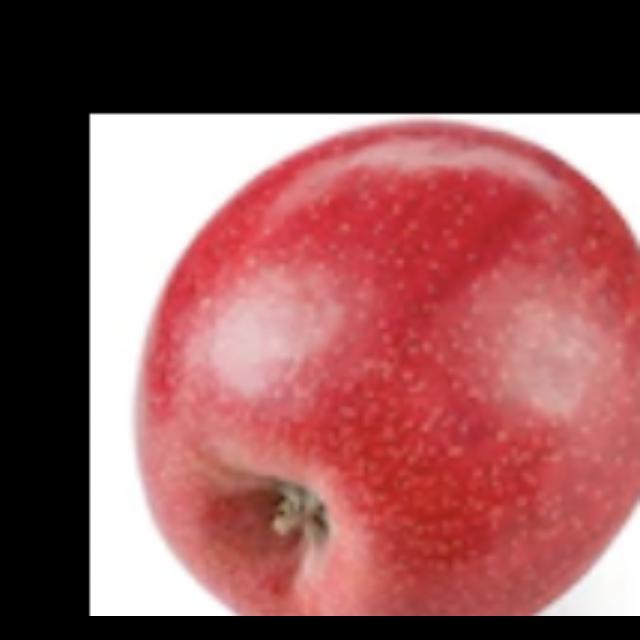Apel Segar: (135, 122, 640, 616)
